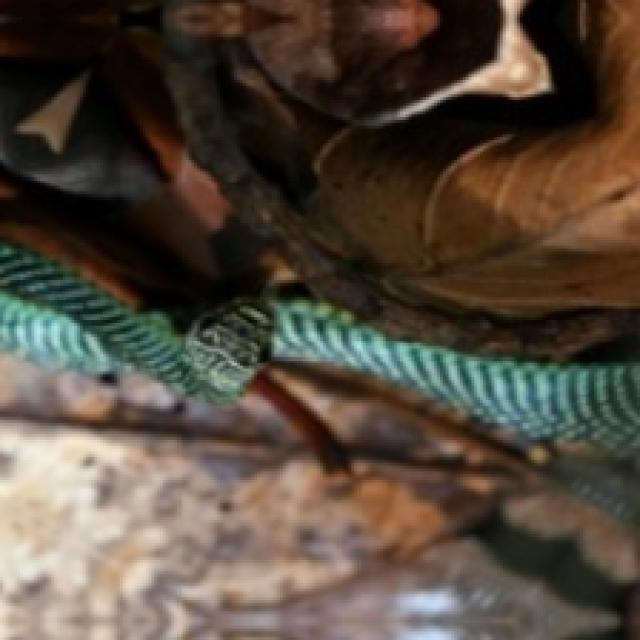paradise tree snake: (0, 0, 637, 354), (0, 360, 637, 637)
